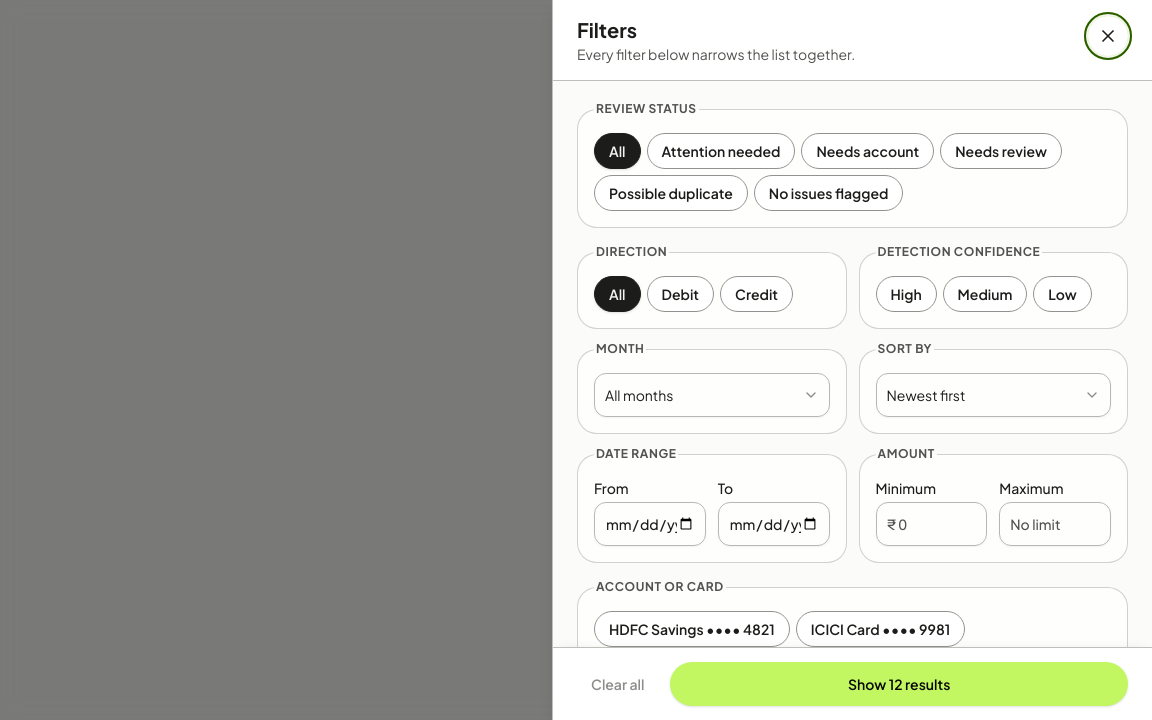
Scenario: CandidateFilterSheet › previews how many rows the draft would list on the Apply button
The width and height of the screenshot is (1152, 720).
Expected: the button with test id "apply-filters" reads "Show 12 results", [670, 662, 1128, 706]
Click the button "Credit": (756, 294) [720, 276, 793, 312]
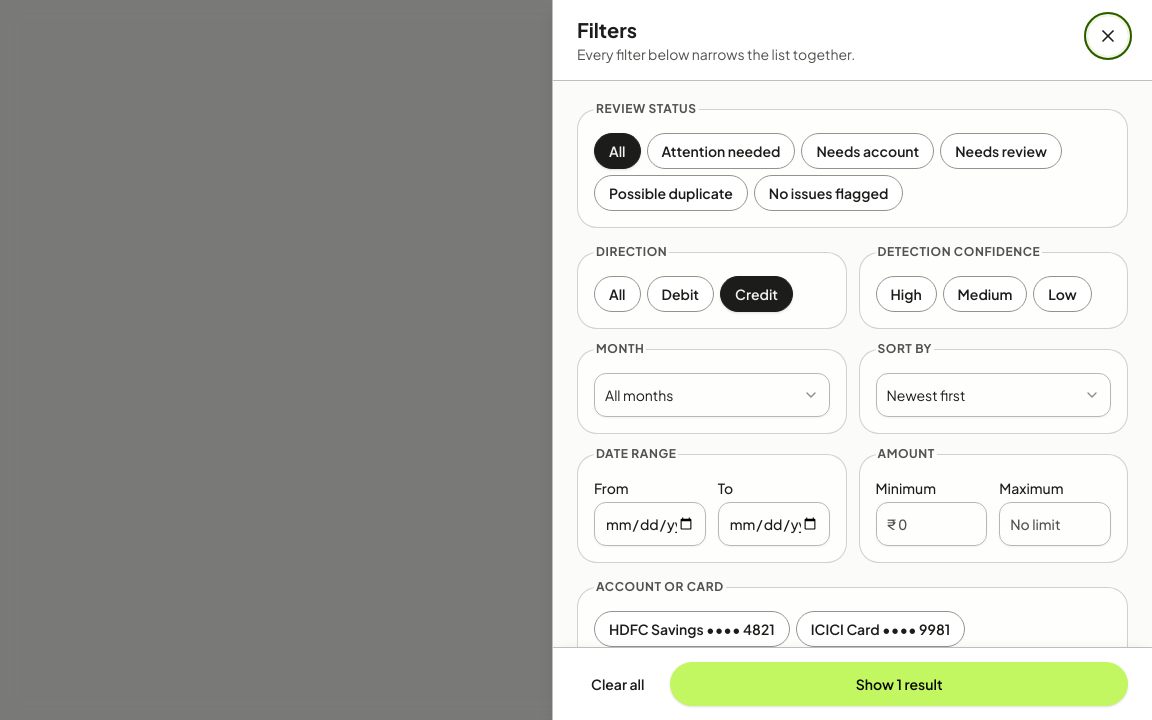
Expected: the button with test id "apply-filters" reads "Show 1 result", [670, 662, 1128, 706]
Click the button "Debit": (680, 294) [647, 276, 714, 312]
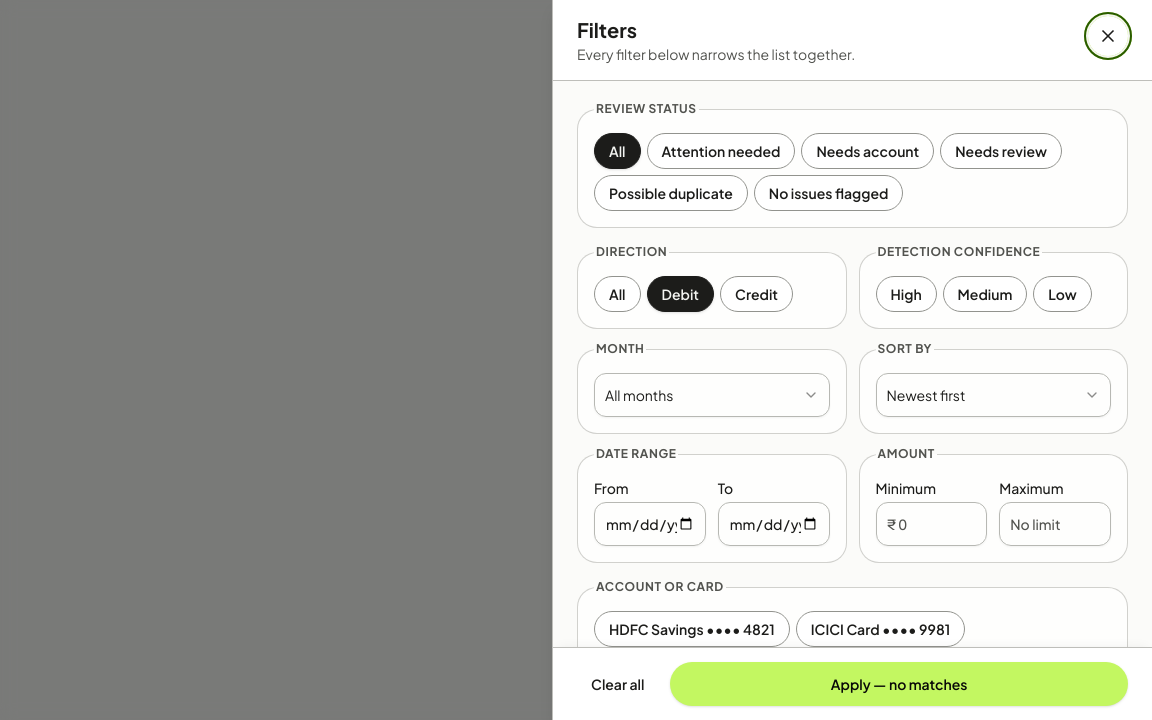
Expected: the button with test id "apply-filters" reads "Apply — no matches", [670, 662, 1128, 706]
